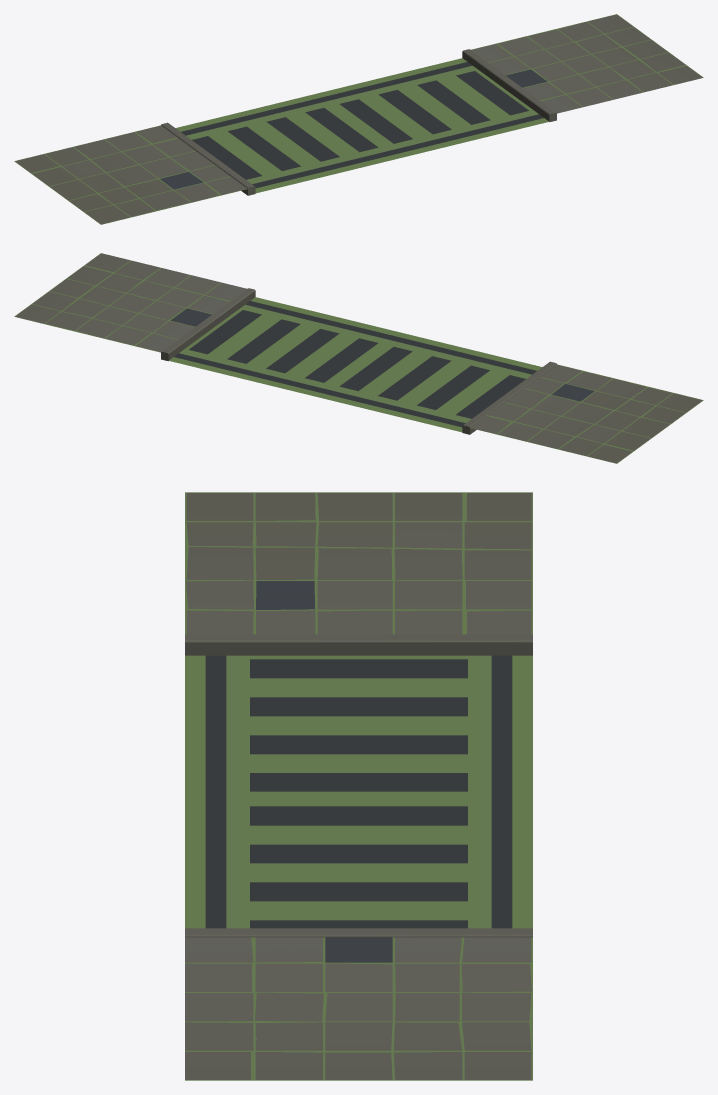
File: Road_33.fbx
3 renders of one model, top to bottom at view 1: azimuth 30°, elevation 25°; view 2: azimuth 150°, elevation 25°; view 3: azimuth 270°, elevation 25°, orthographic. The views are drawn at different scales.
Visible parts, largest first — view 1: Road_33; view 2: Road_33; view 3: Road_33.
Part boxes in pixels (bbox=[...]): Road_33: bbox=[14, 14, 703, 224]; Road_33: bbox=[14, 253, 703, 463]; Road_33: bbox=[185, 492, 532, 1080].
Bounding box in the file's own units: 12 × 0.15 × 3.
